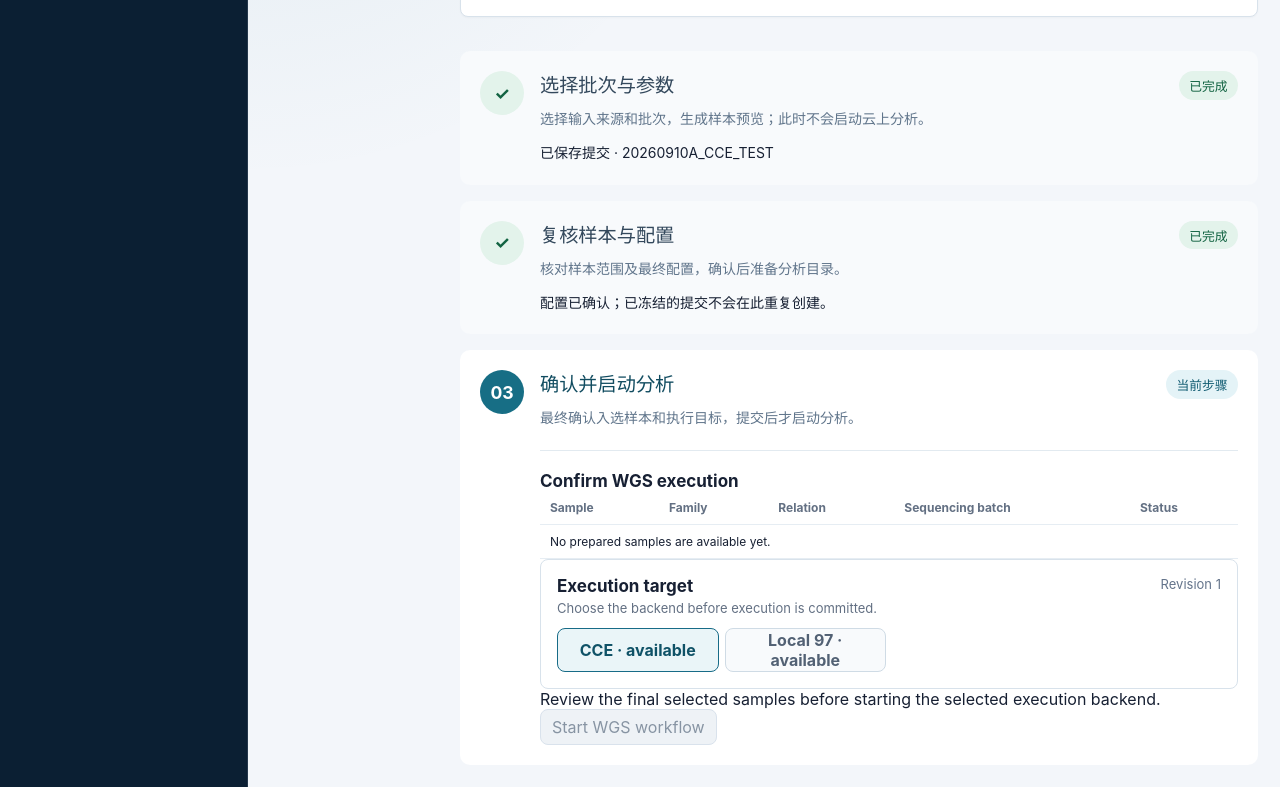
restores the run analysis batch instead of a stale submission draft in target confirmation
(page scrolled)
What coordinates should you click on to do the following:
click the button "Local 97 · available"
I would click on:
 (805, 650)
Its box is top-left (724, 628), bottom-right (886, 672).
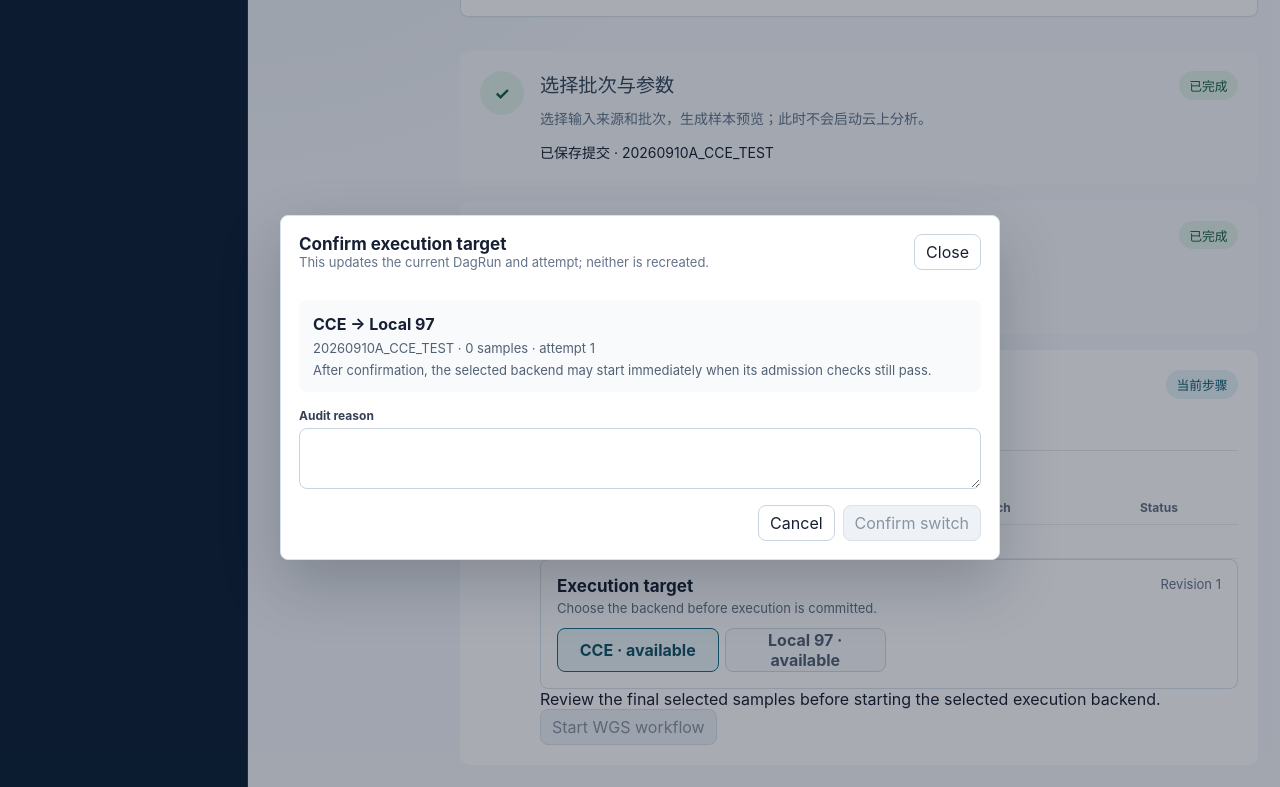
Expected: the dialog does not show "STALE_DRAFT", top-left (280, 214), bottom-right (1000, 560)
Expected: the dialog shows "20260910A_CCE_TEST · 0 samples", top-left (280, 214), bottom-right (1000, 560)
